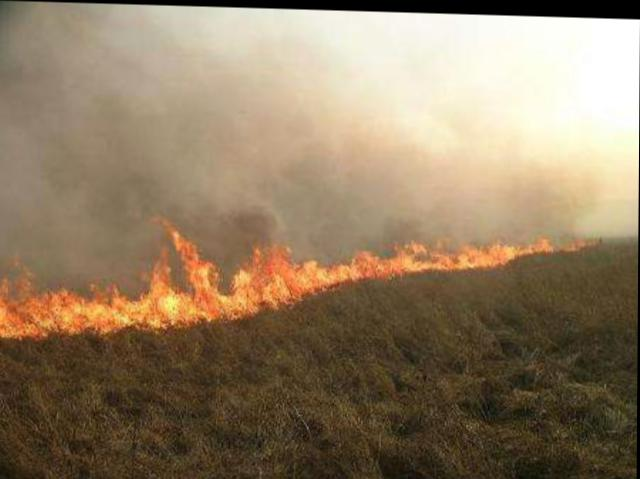fire: (0, 206, 600, 351)
